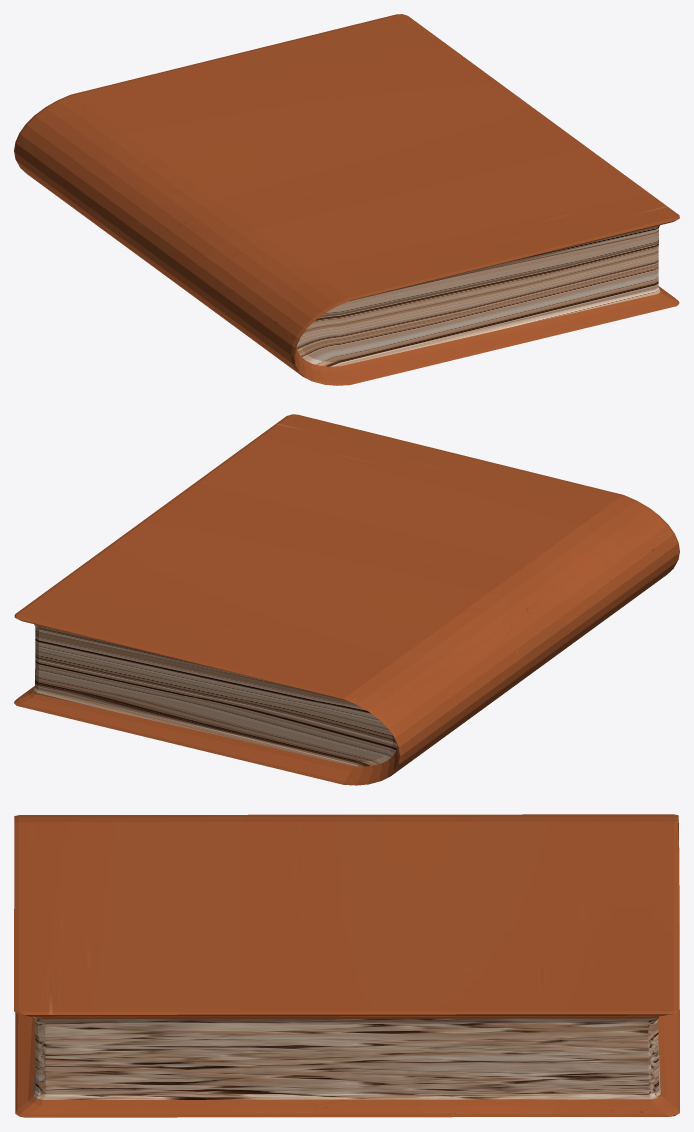
File: Book1.fbx
3 views of the same model, one above another, from view 1: azimuth 30°, elevation 25°; view 2: azimuth 150°, elevation 25°; view 3: azimuth 270°, elevation 25° (orthographic). The views are drawn at different scales.
Parts seen in each view (by area): view 1: Cylinder; view 2: Cylinder; view 3: Cylinder.
Boxes of the visible parts, x1,y1,x2,y2 form: Cylinder: (14, 14, 679, 385); Cylinder: (14, 414, 679, 785); Cylinder: (14, 814, 679, 1117).
Bounding box in the file's own units: 103 × 22.32 × 128.
2 materials, 2 textured.
